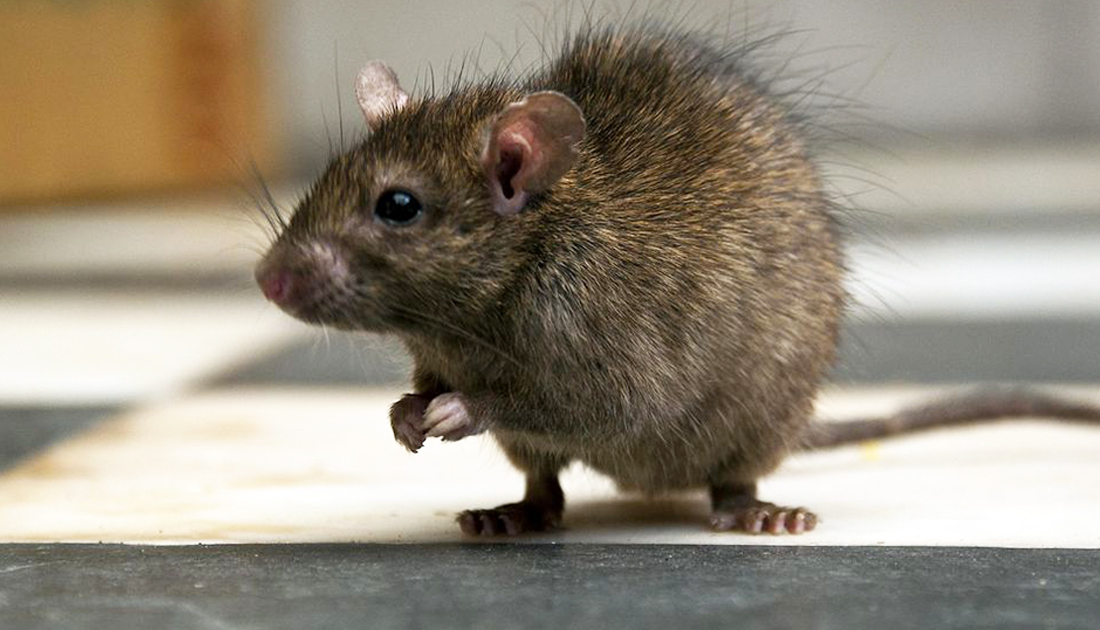rat: (219, 2, 946, 557)
